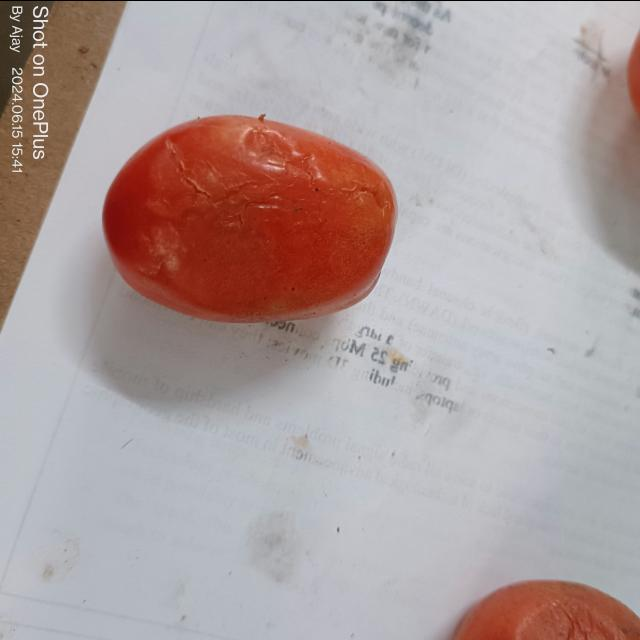Botrytis: (159, 136, 215, 200), (342, 182, 392, 211)
